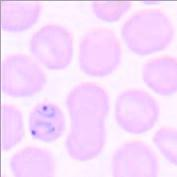Infected: (28, 102, 65, 142)
Uninfected: (67, 82, 110, 160), (121, 8, 173, 55), (78, 28, 121, 78), (0, 53, 45, 97), (115, 89, 159, 132), (31, 26, 73, 70), (111, 139, 158, 177), (143, 55, 177, 96), (0, 0, 43, 32), (10, 146, 54, 177)
